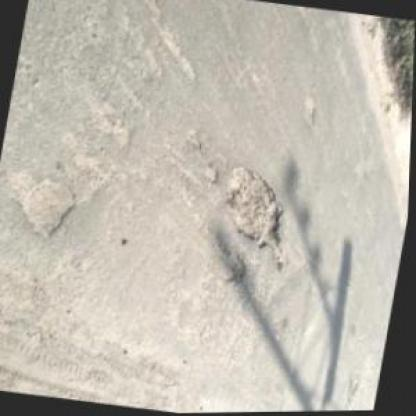pothole: (212, 160, 304, 271), (1, 166, 82, 246), (208, 238, 254, 288), (298, 94, 322, 132), (127, 0, 167, 19)
